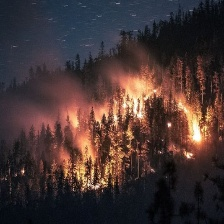fire: (70, 159, 109, 192), (177, 98, 204, 143), (123, 94, 148, 121), (181, 147, 195, 161)
smoke: (7, 52, 147, 120)
